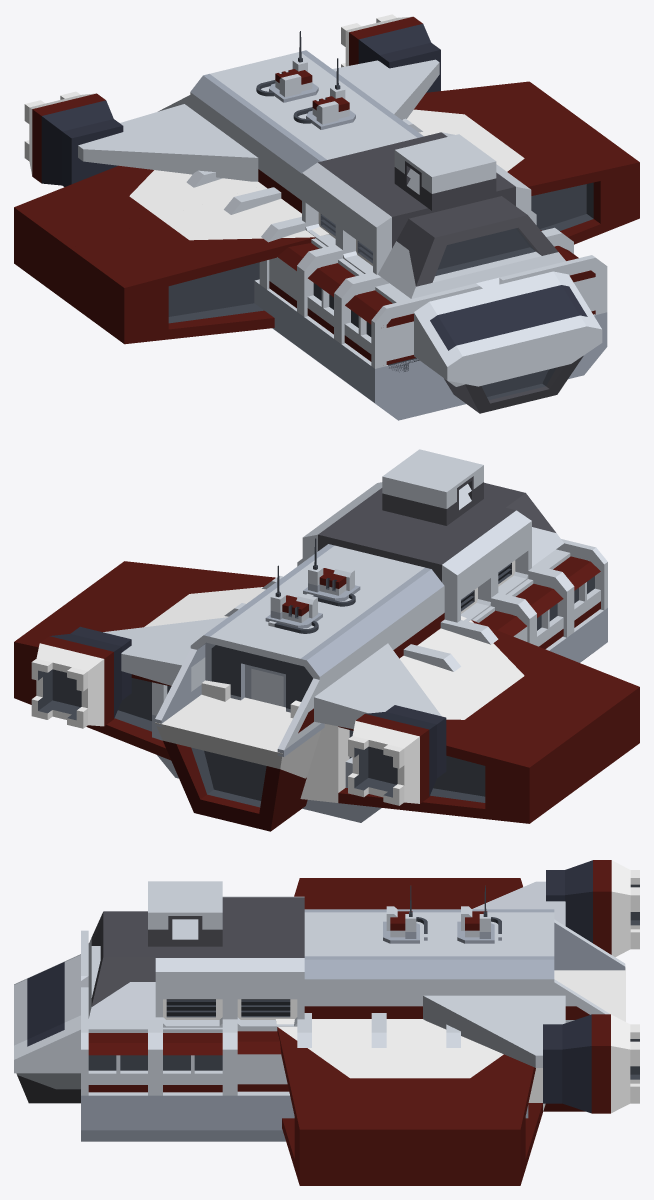
The model's file is cargo_moyen_5.glb.
3 views of the same model, one above another, from view 1: azimuth 30°, elevation 25°; view 2: azimuth 150°, elevation 25°; view 3: azimuth 270°, elevation 25° (orthographic).
Visible parts, largest first — view 1: mergedBlocks(Clone); view 2: mergedBlocks(Clone); view 3: mergedBlocks(Clone).
Part boxes in pixels (box(x1,y1,x2,y2)): mergedBlocks(Clone): box(14, 14, 639, 420); mergedBlocks(Clone): box(14, 449, 639, 831); mergedBlocks(Clone): box(14, 860, 639, 1185).
Size of the model in its own units: 7.99 by 3.2 by 8.4.
Materials: 1 (1 with a texture image).
